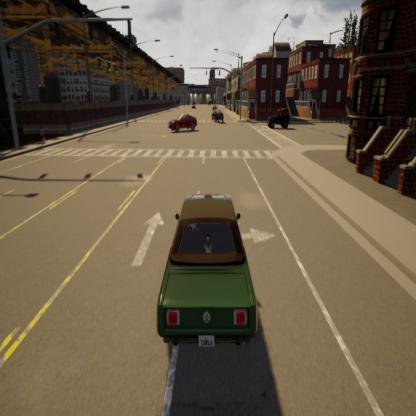Cars: (149, 185, 272, 363), (158, 106, 206, 150), (262, 100, 298, 144), (209, 93, 227, 143)
